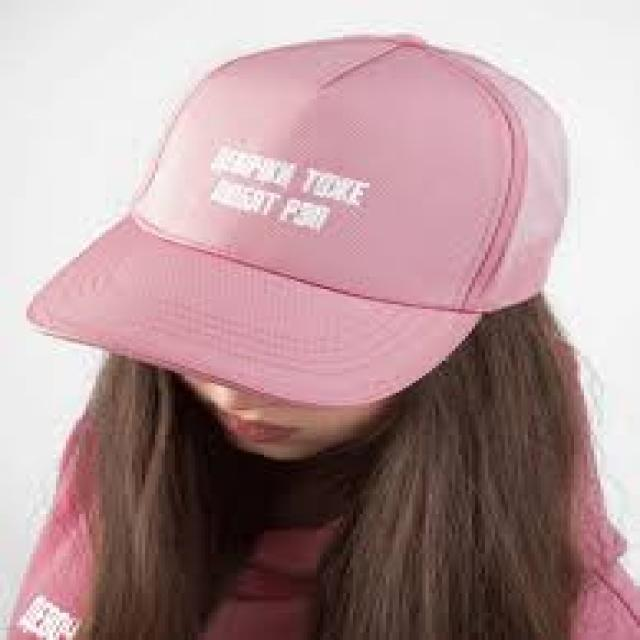cap: (14, 21, 610, 434)
